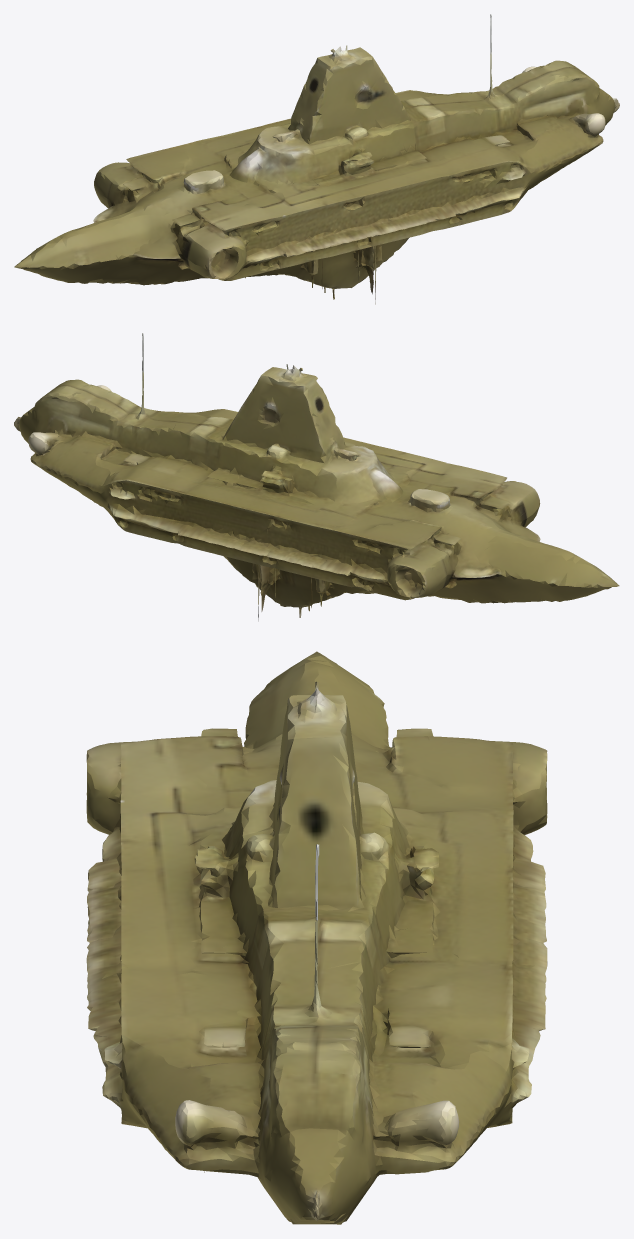
File: centurion_hull.glb
3 renders of one model, top to bottom at view 1: azimuth 30°, elevation 25°; view 2: azimuth 150°, elevation 25°; view 3: azimuth 270°, elevation 25°, orthographic. The views are drawn at different scales.
Parts seen in each view (by area): view 1: centurion_hull; view 2: centurion_hull; view 3: centurion_hull.
Part boxes in pixels (x1,y1,x2,y2): centurion_hull: (14, 14, 619, 304); centurion_hull: (14, 333, 619, 621); centurion_hull: (86, 651, 547, 1224).
Size of the model in its own units: 1.89 by 0.7358 by 0.6225.
Materials: 1 (1 with a texture image).
